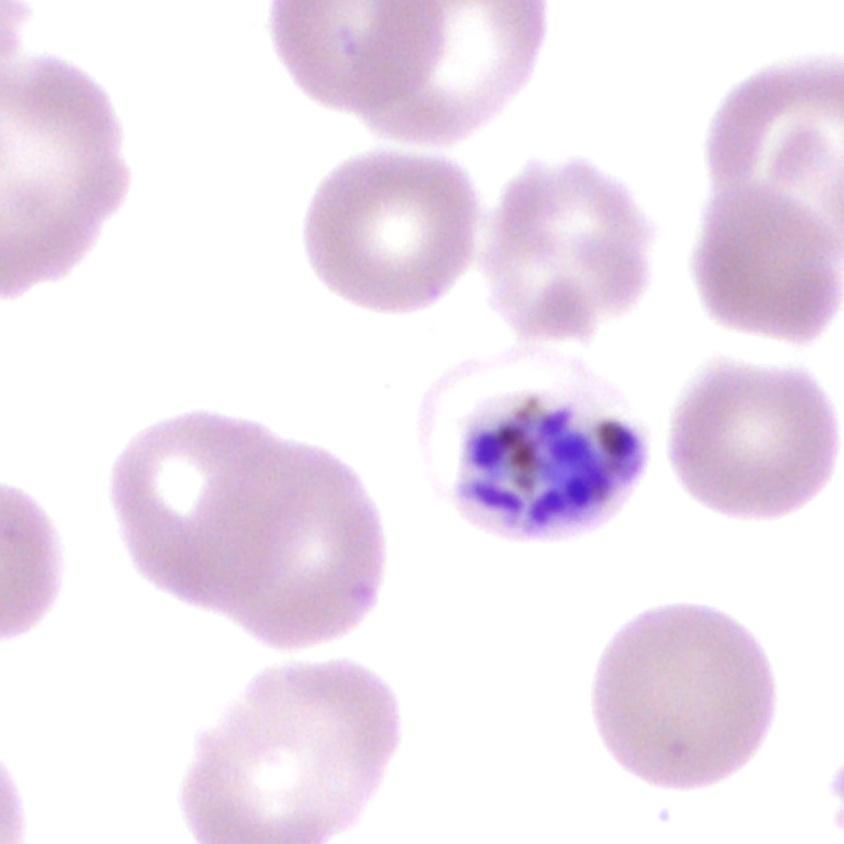Infected: (414, 341, 647, 538)
Uninfected: (178, 663, 401, 844), (196, 443, 383, 640), (106, 411, 301, 599), (586, 605, 775, 785), (482, 153, 647, 339), (0, 51, 125, 294), (670, 359, 839, 524), (704, 53, 844, 250), (306, 151, 473, 315), (358, 3, 539, 145), (696, 177, 842, 338), (272, 0, 445, 109)
